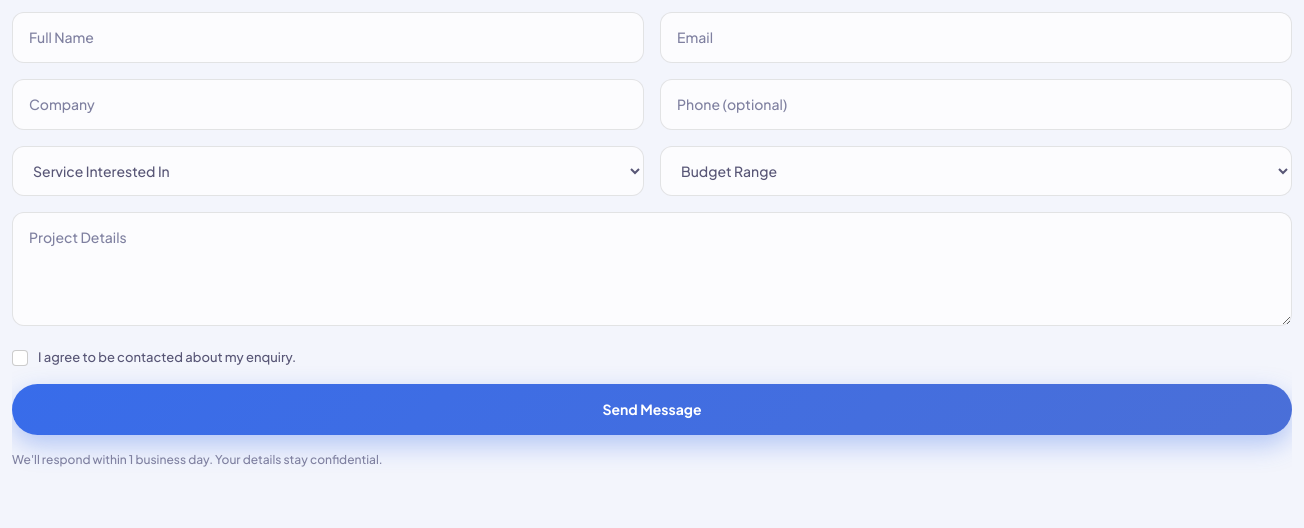
Test case: ContactForm › validates the consent checkbox and the details textarea on blur
The image size is (1304, 528).
Click the checkbox at (20, 358), box [12,350,28,366]
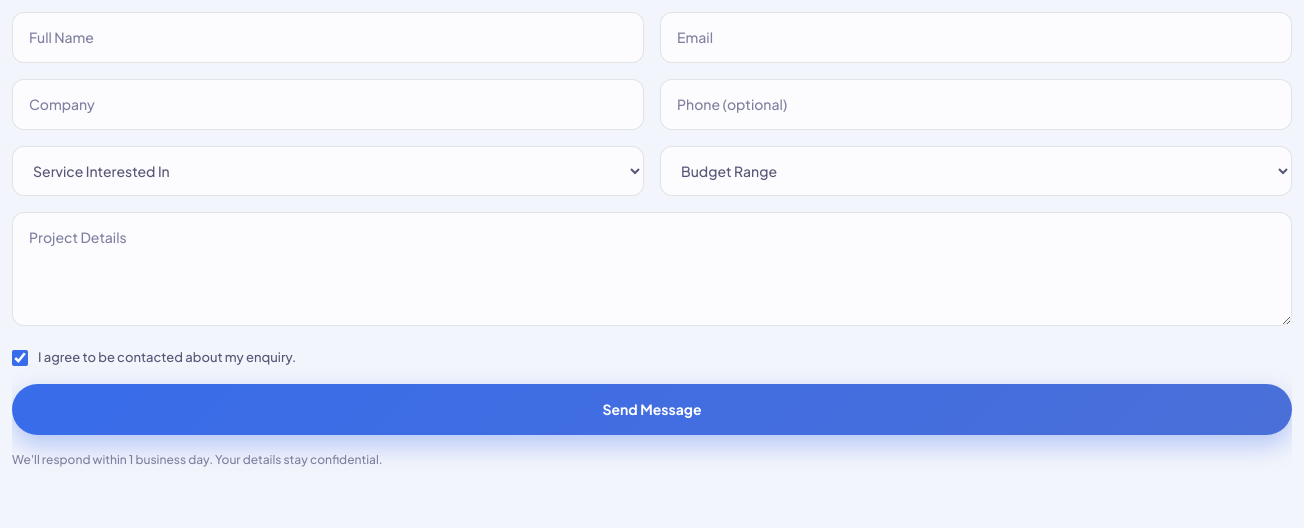
Click the checkbox at (20, 358), box [12,350,28,366]
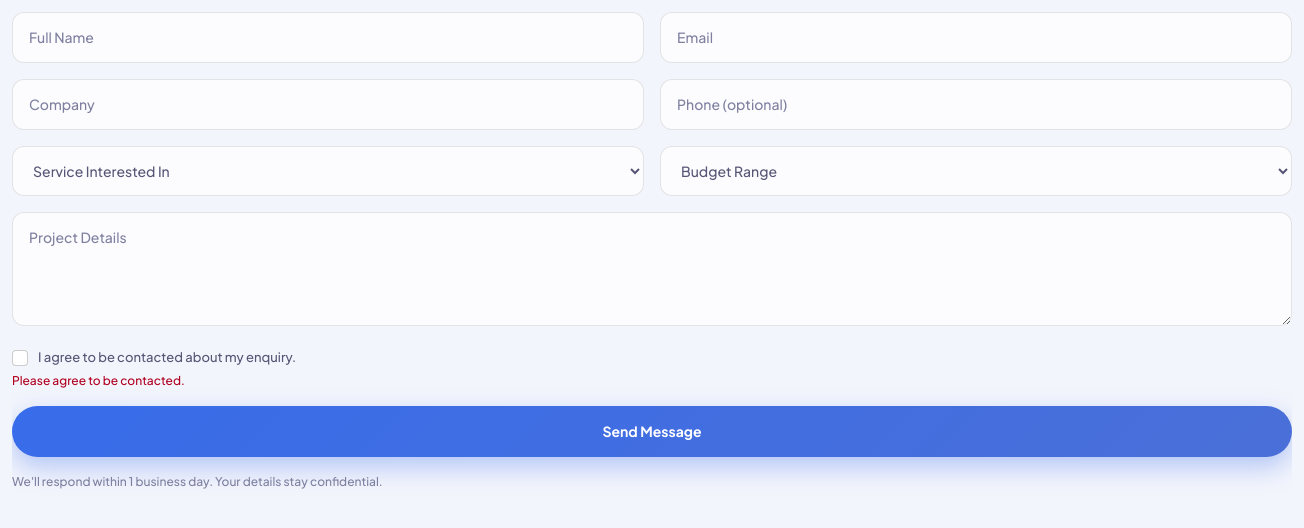
Check: the text "Please agree to be contacted." is shown, box [12,372,185,388]
Type "short" into the text box with placeholder "Project Details" at (652, 269), box [12,212,1292,326]
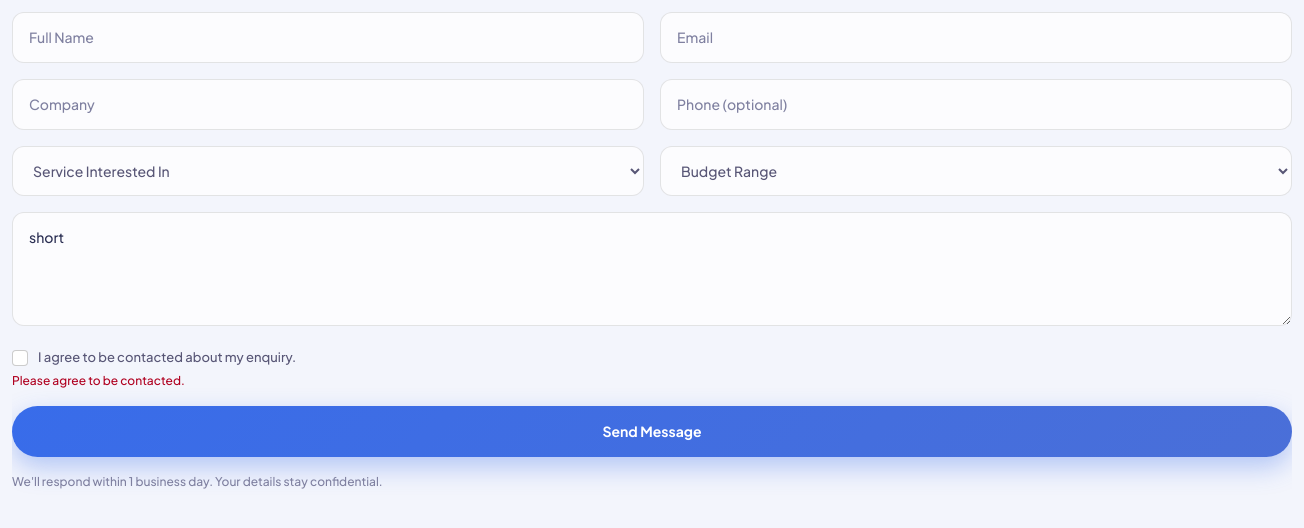
Leave the text box with placeholder "Project Details", box [12,212,1292,326]
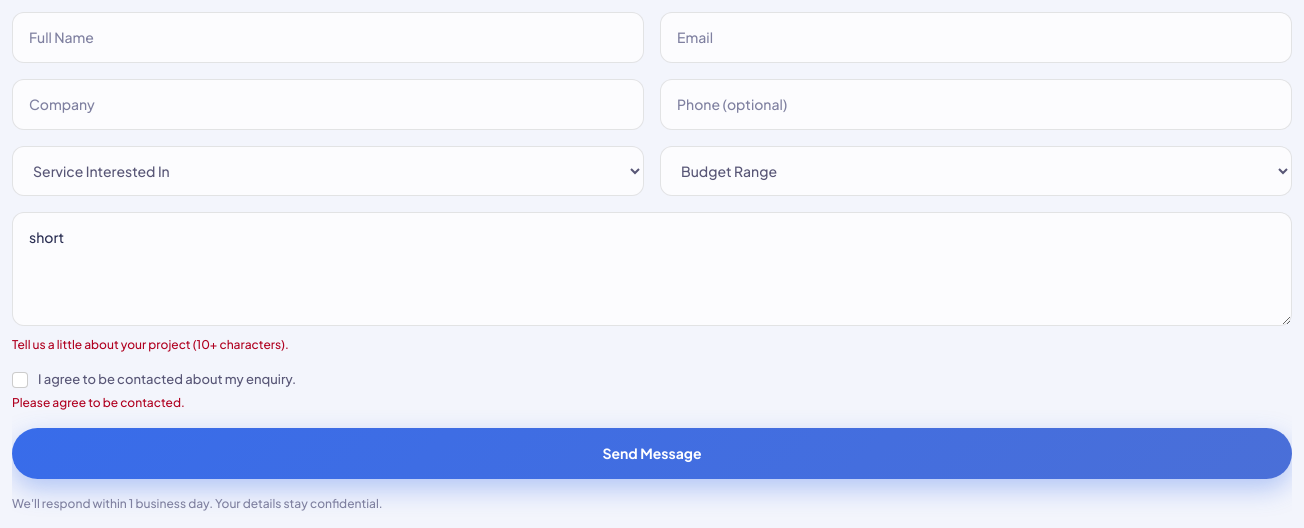
Check: the text "Tell us a little about your project (10+ characters)." is shown, box [12,337,289,352]
